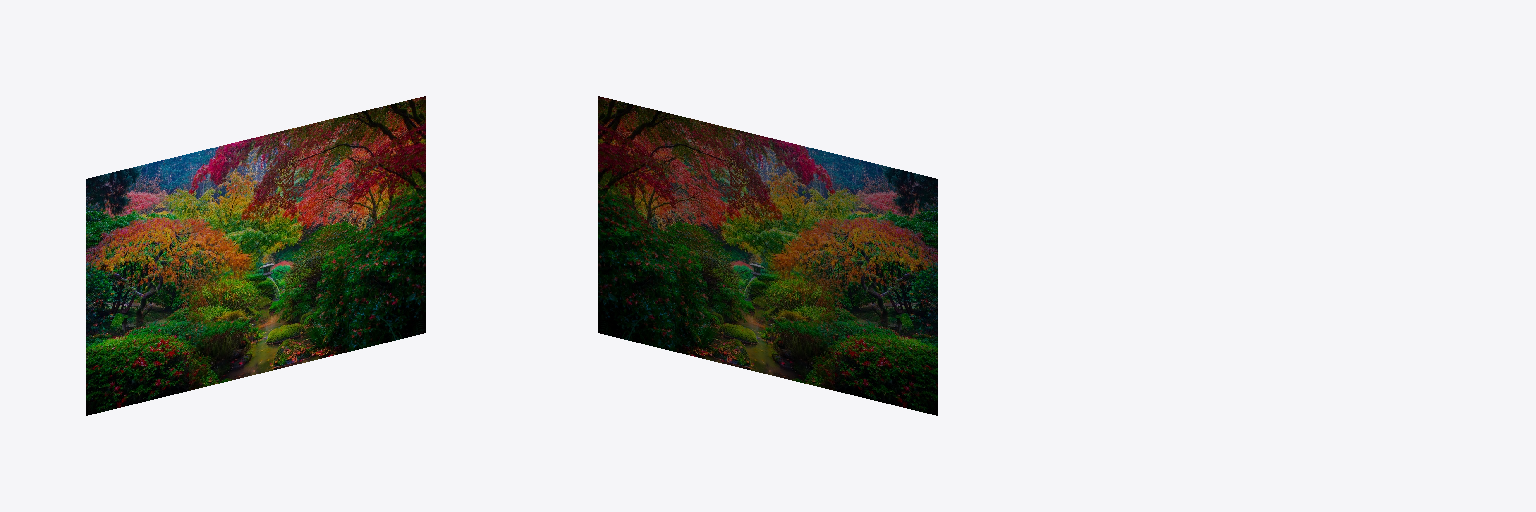
The picture shows the model from 3 angles: view 1: azimuth 30°, elevation 25°; view 2: azimuth 150°, elevation 25°; view 3: azimuth 270°, elevation 25°; orthographic projection.
Parts seen in each view (by area): view 1: Mesh1 Model; view 2: Mesh1 Model; view 3: none.
Boxes of the visible parts, x1,y1,x2,y2 form: Mesh1 Model: [86, 96, 425, 415]; Mesh1 Model: [598, 96, 937, 415].
Size of the model in its own units: 152 by 102 by 0.
1 materials, 1 textured.